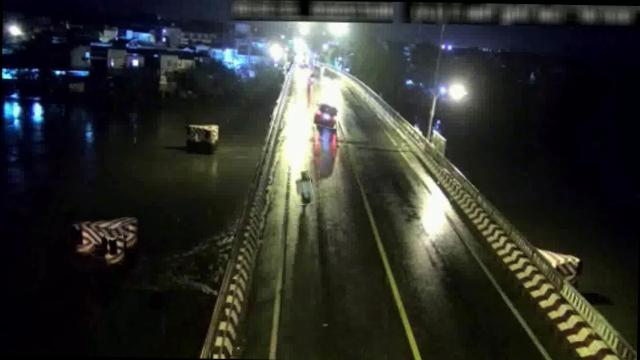Bike: (292, 170, 314, 204)
Car: (312, 100, 341, 128)
